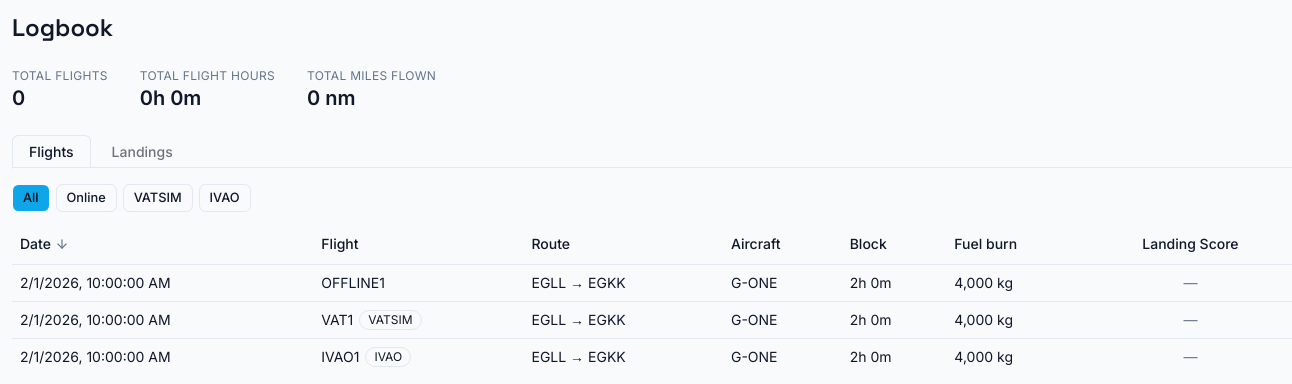
Test case: LogbookView list › flights flown online › filters by All, Online, VATSIM and IVAO
The width and height of the screenshot is (1292, 384).
Expected: the text "OFFLINE1" is shown, 321,272 -> 385,292
Click the button "Online". click: coordinates (86, 198)
box: 56,184 -> 117,212
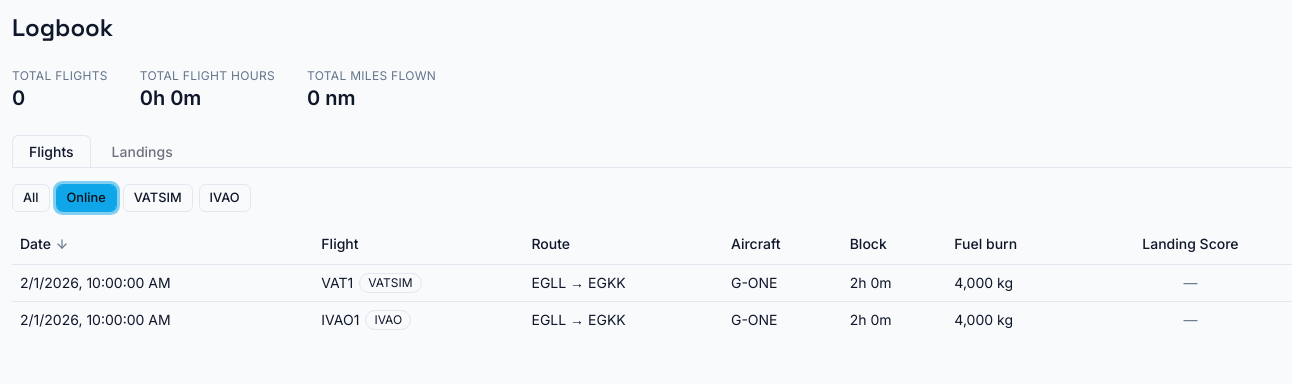
Expected: the text "VAT1" is shown, 321,274 -> 353,290
Expected: the text "OFFLINE1" is gone
Click the button "IVAO". click: coordinates (225, 198)
box: 199,184 -> 251,212
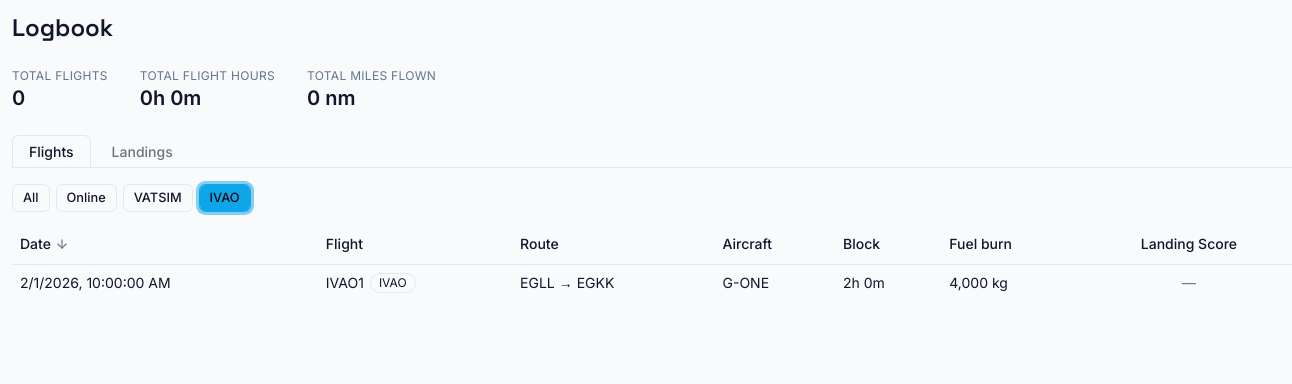
Expected: the text "IVAO1" is shown, 326,274 -> 364,290
Expected: the text "VAT1" is gone
Click the button "VATSIM". click: coordinates (158, 198)
box: 123,184 -> 193,212
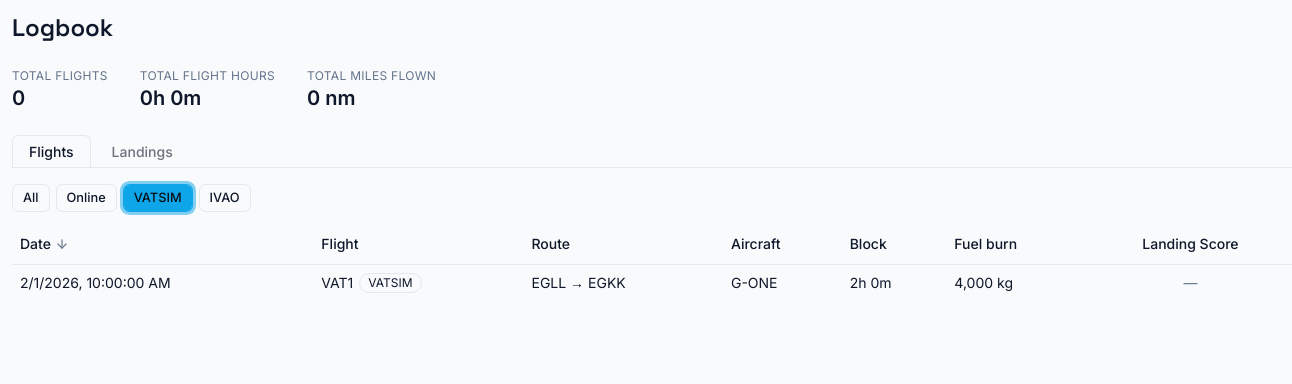
Expected: the text "VAT1" is shown, 321,274 -> 353,290
Expected: the text "IVAO1" is gone
Click the button "All". click: coordinates (31, 198)
box: 12,184 -> 50,212
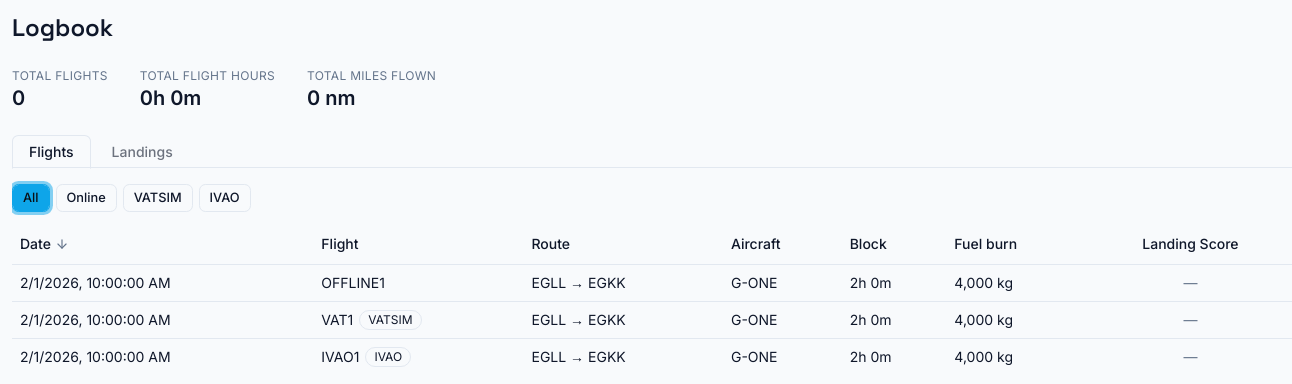
Expected: the text "OFFLINE1" is shown, 321,272 -> 385,292
